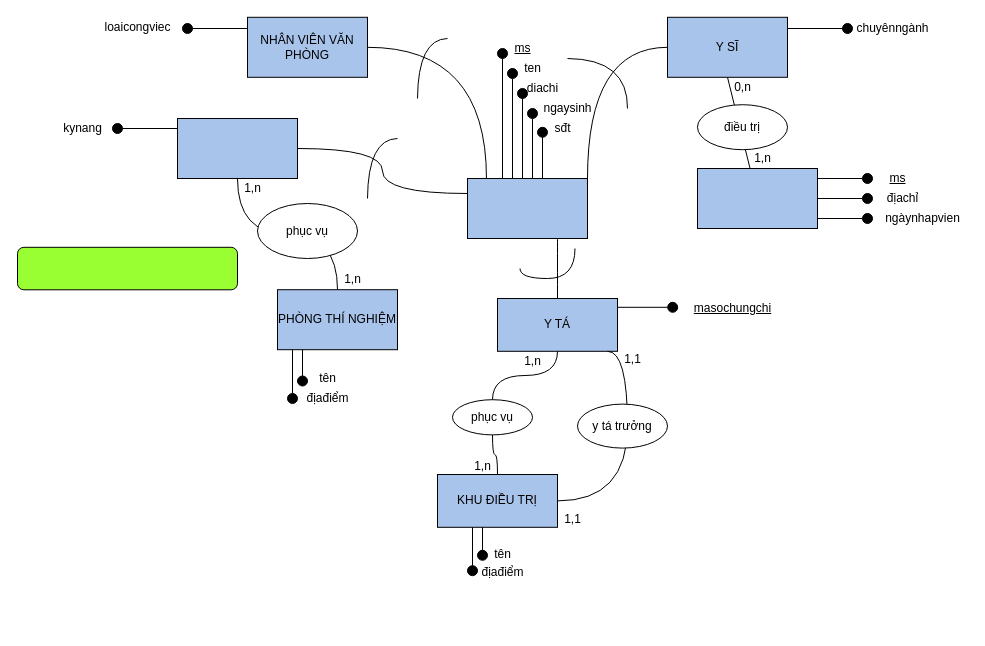
The diagram is 985 pixels wide and 646 high, and some of its shapes have lost their labels. Here are the shapes that lost their labels. From the top down, the box of each, then its label:
(176, 118, 298, 178): KỸ THUẬT VIÊN
(466, 178, 588, 238): NHÂN VIÊN
(696, 168, 818, 228): BỆNH NHÂN
(16, 246, 238, 290): THIẾT KẾ CƠ SỞ DỮ LIỆU - BÀI 1 / 2009 - 2010
